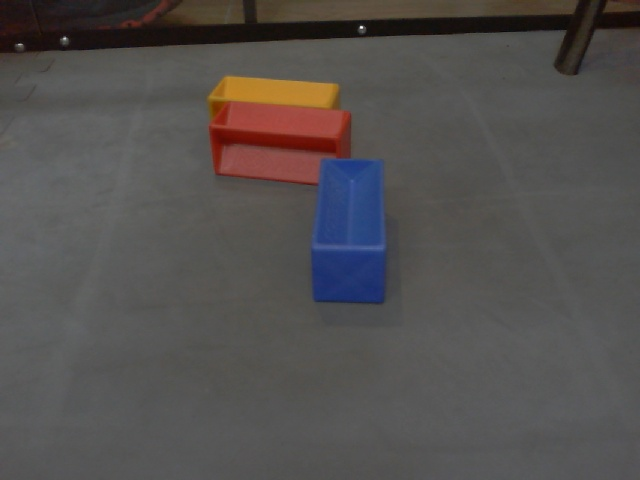BlueSample: (310, 156, 394, 310)
RedSample: (208, 100, 355, 190)
YellowSample: (205, 71, 342, 113)
